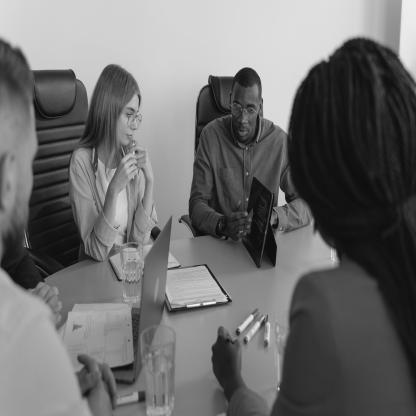Eye: (247, 107, 255, 113), (126, 112, 132, 119), (233, 105, 241, 110), (136, 114, 137, 116)
Mouth: (236, 128, 248, 137), (126, 134, 133, 139)
Nose: (237, 110, 248, 125), (130, 118, 137, 130)
